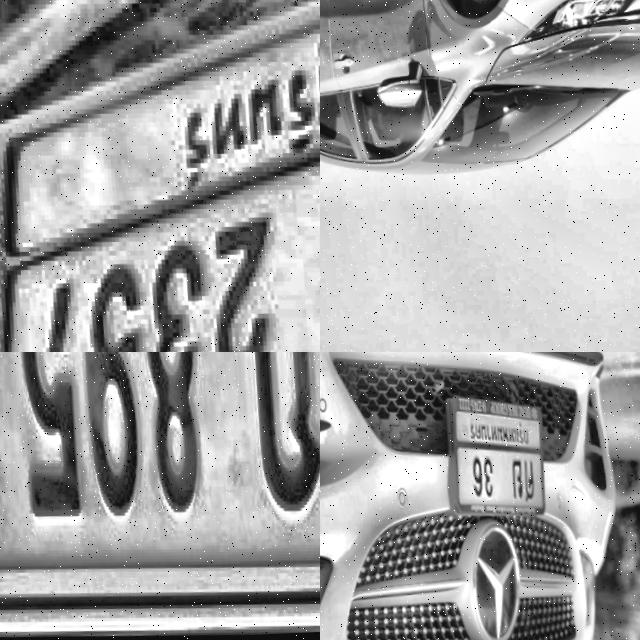license-plate: (0, 0, 320, 352), (0, 352, 320, 640), (429, 387, 549, 531)
